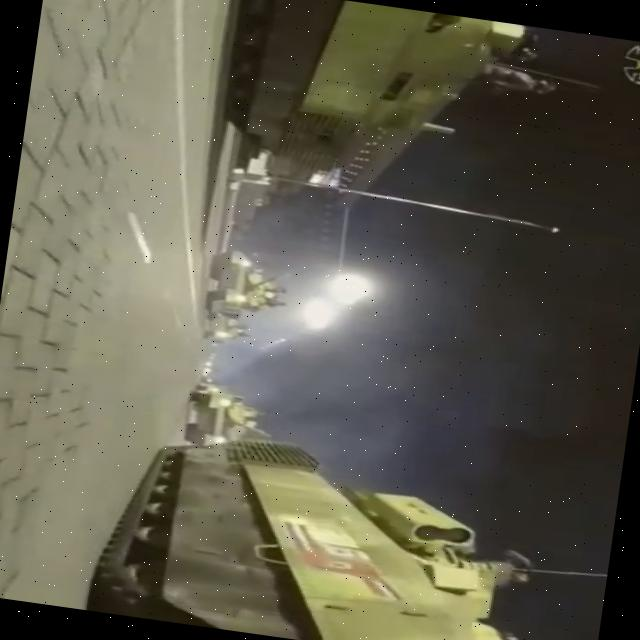north tank: (64, 403, 522, 640), (172, 0, 578, 221), (162, 364, 308, 455), (181, 240, 316, 329)
